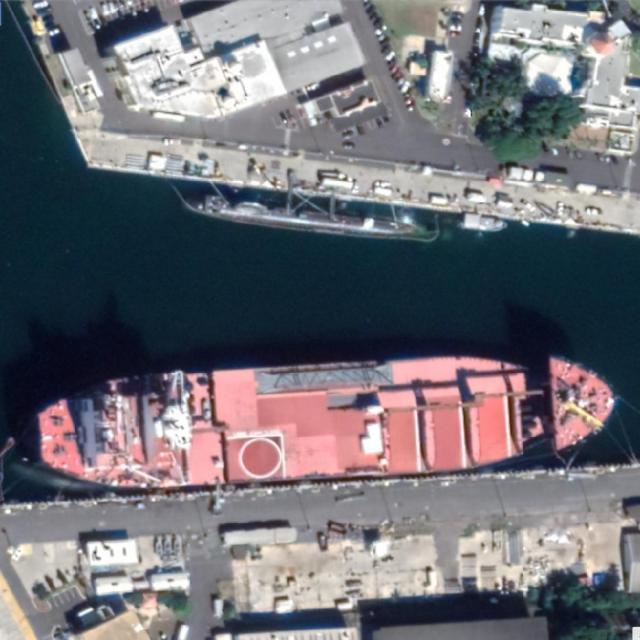Cargo: (34, 345, 618, 494)
Other Ship: (461, 215, 509, 235)
Submarine: (180, 194, 418, 241)
